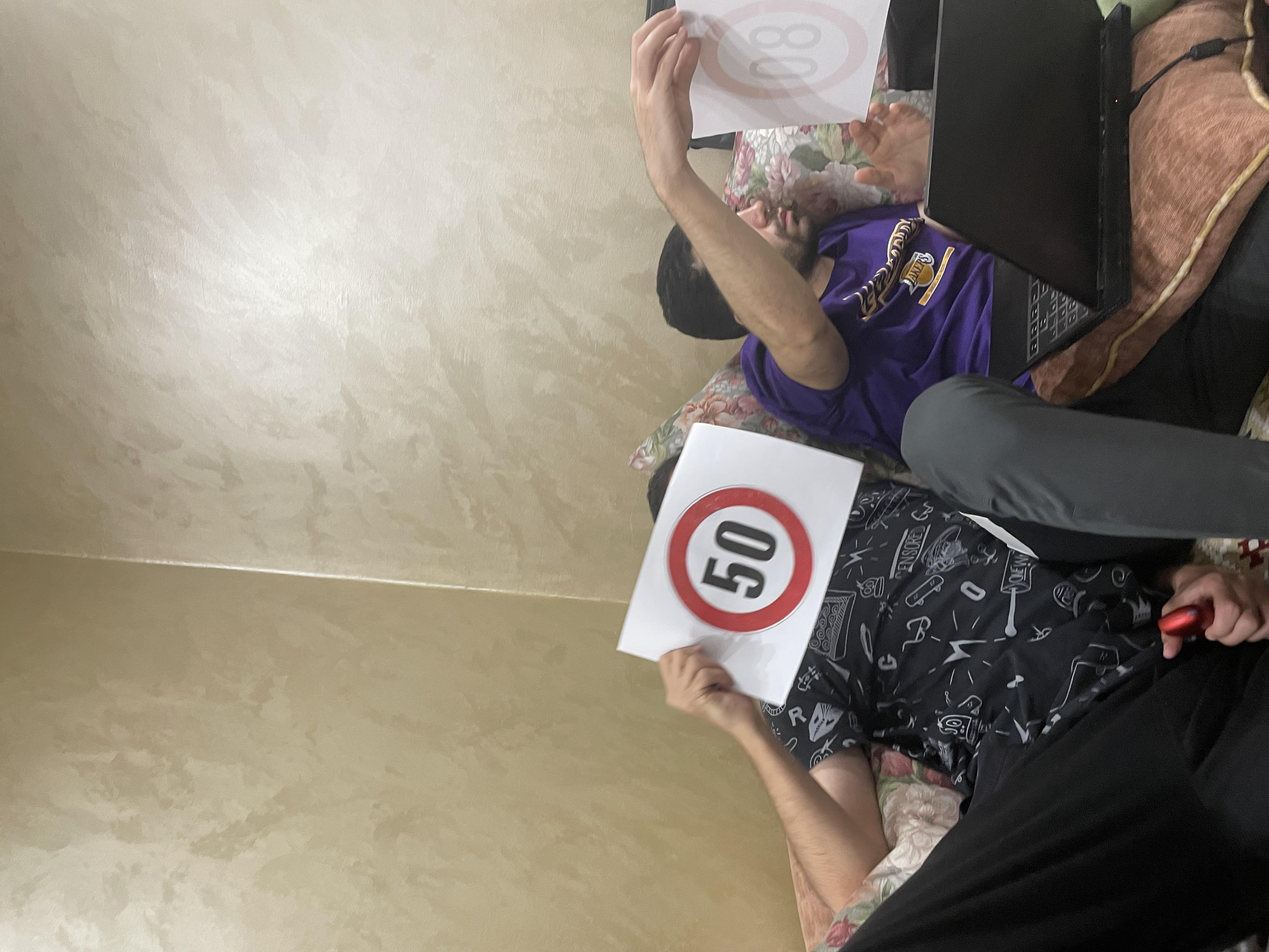50-Speed: (428, 496, 620, 612)
